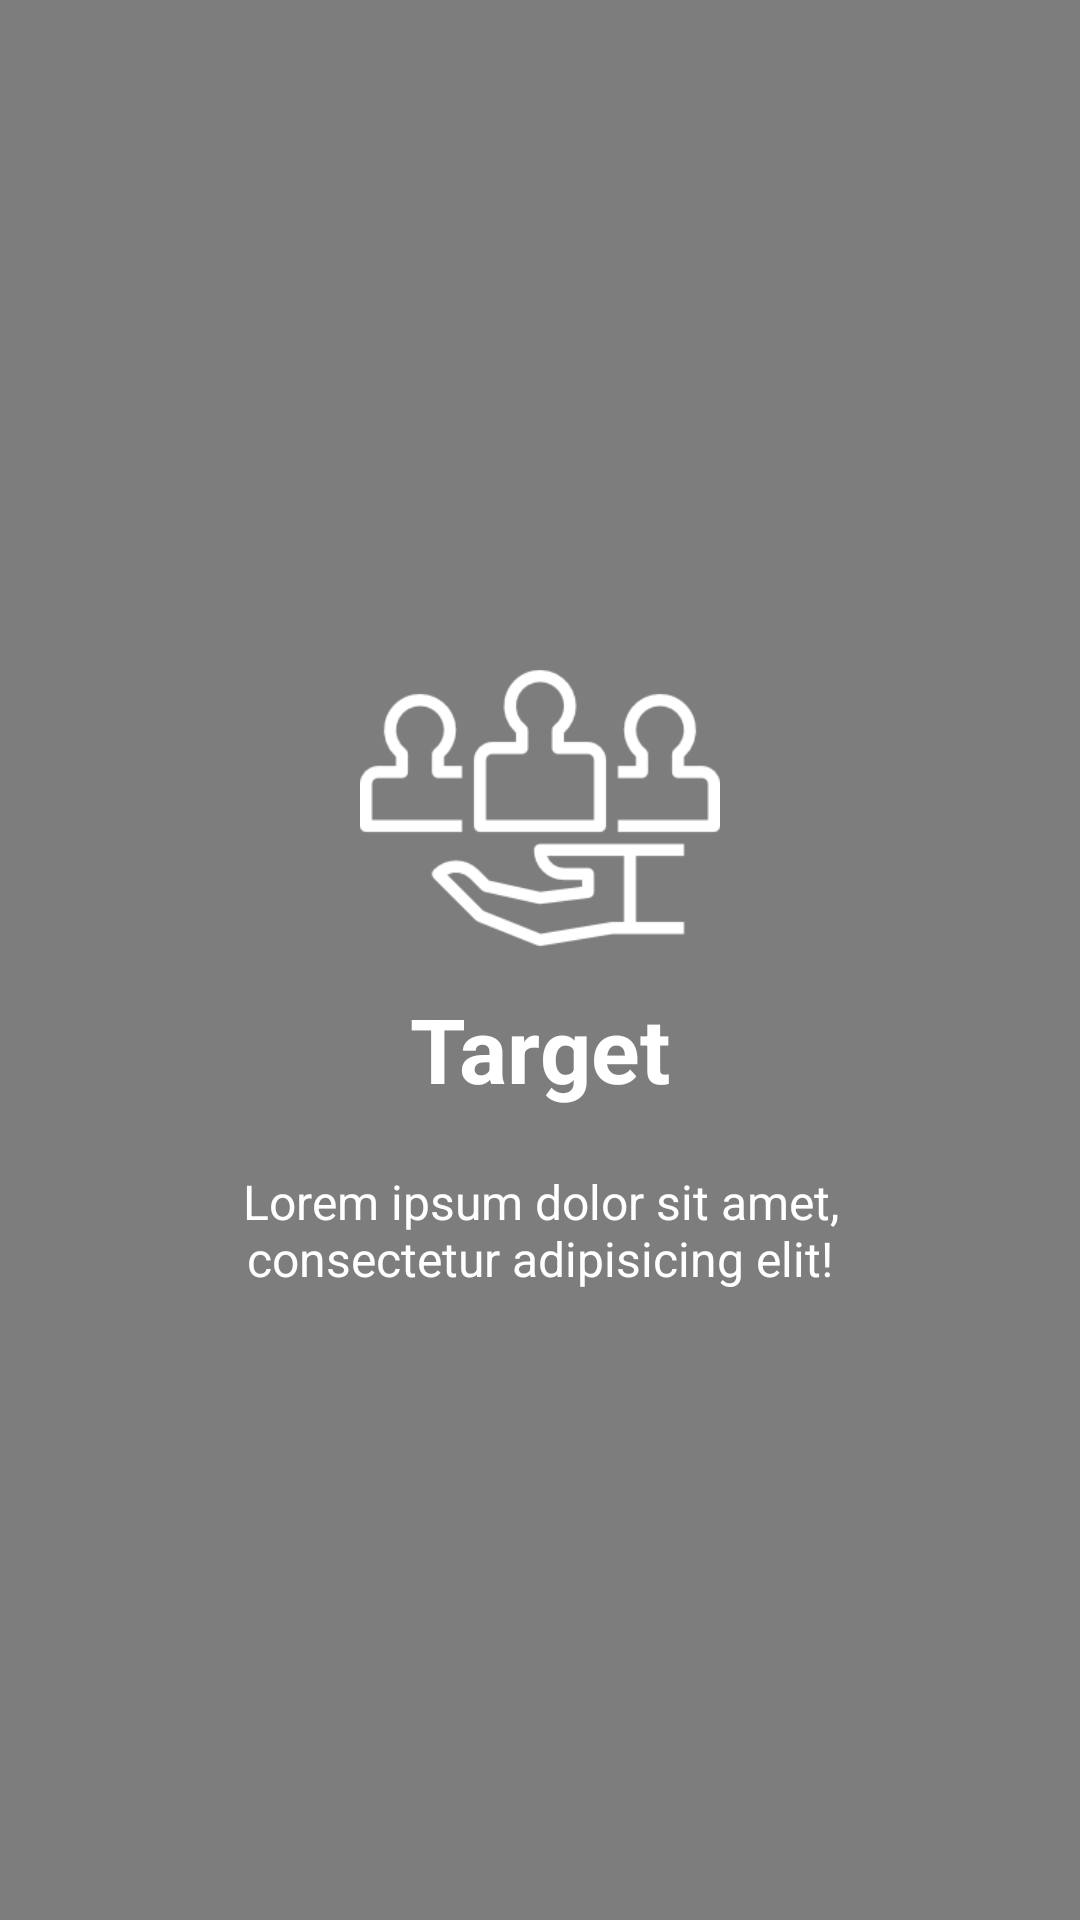

Where to tap for icons on this 1080 x 1920 app screen, as [x,y]:
customer: [540,808]
